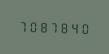eight: (37, 19, 46, 33), (57, 20, 66, 34)
four: (67, 20, 76, 34)
seven: (17, 18, 26, 33), (47, 19, 56, 34)
zero: (77, 20, 86, 35), (27, 19, 36, 33)
